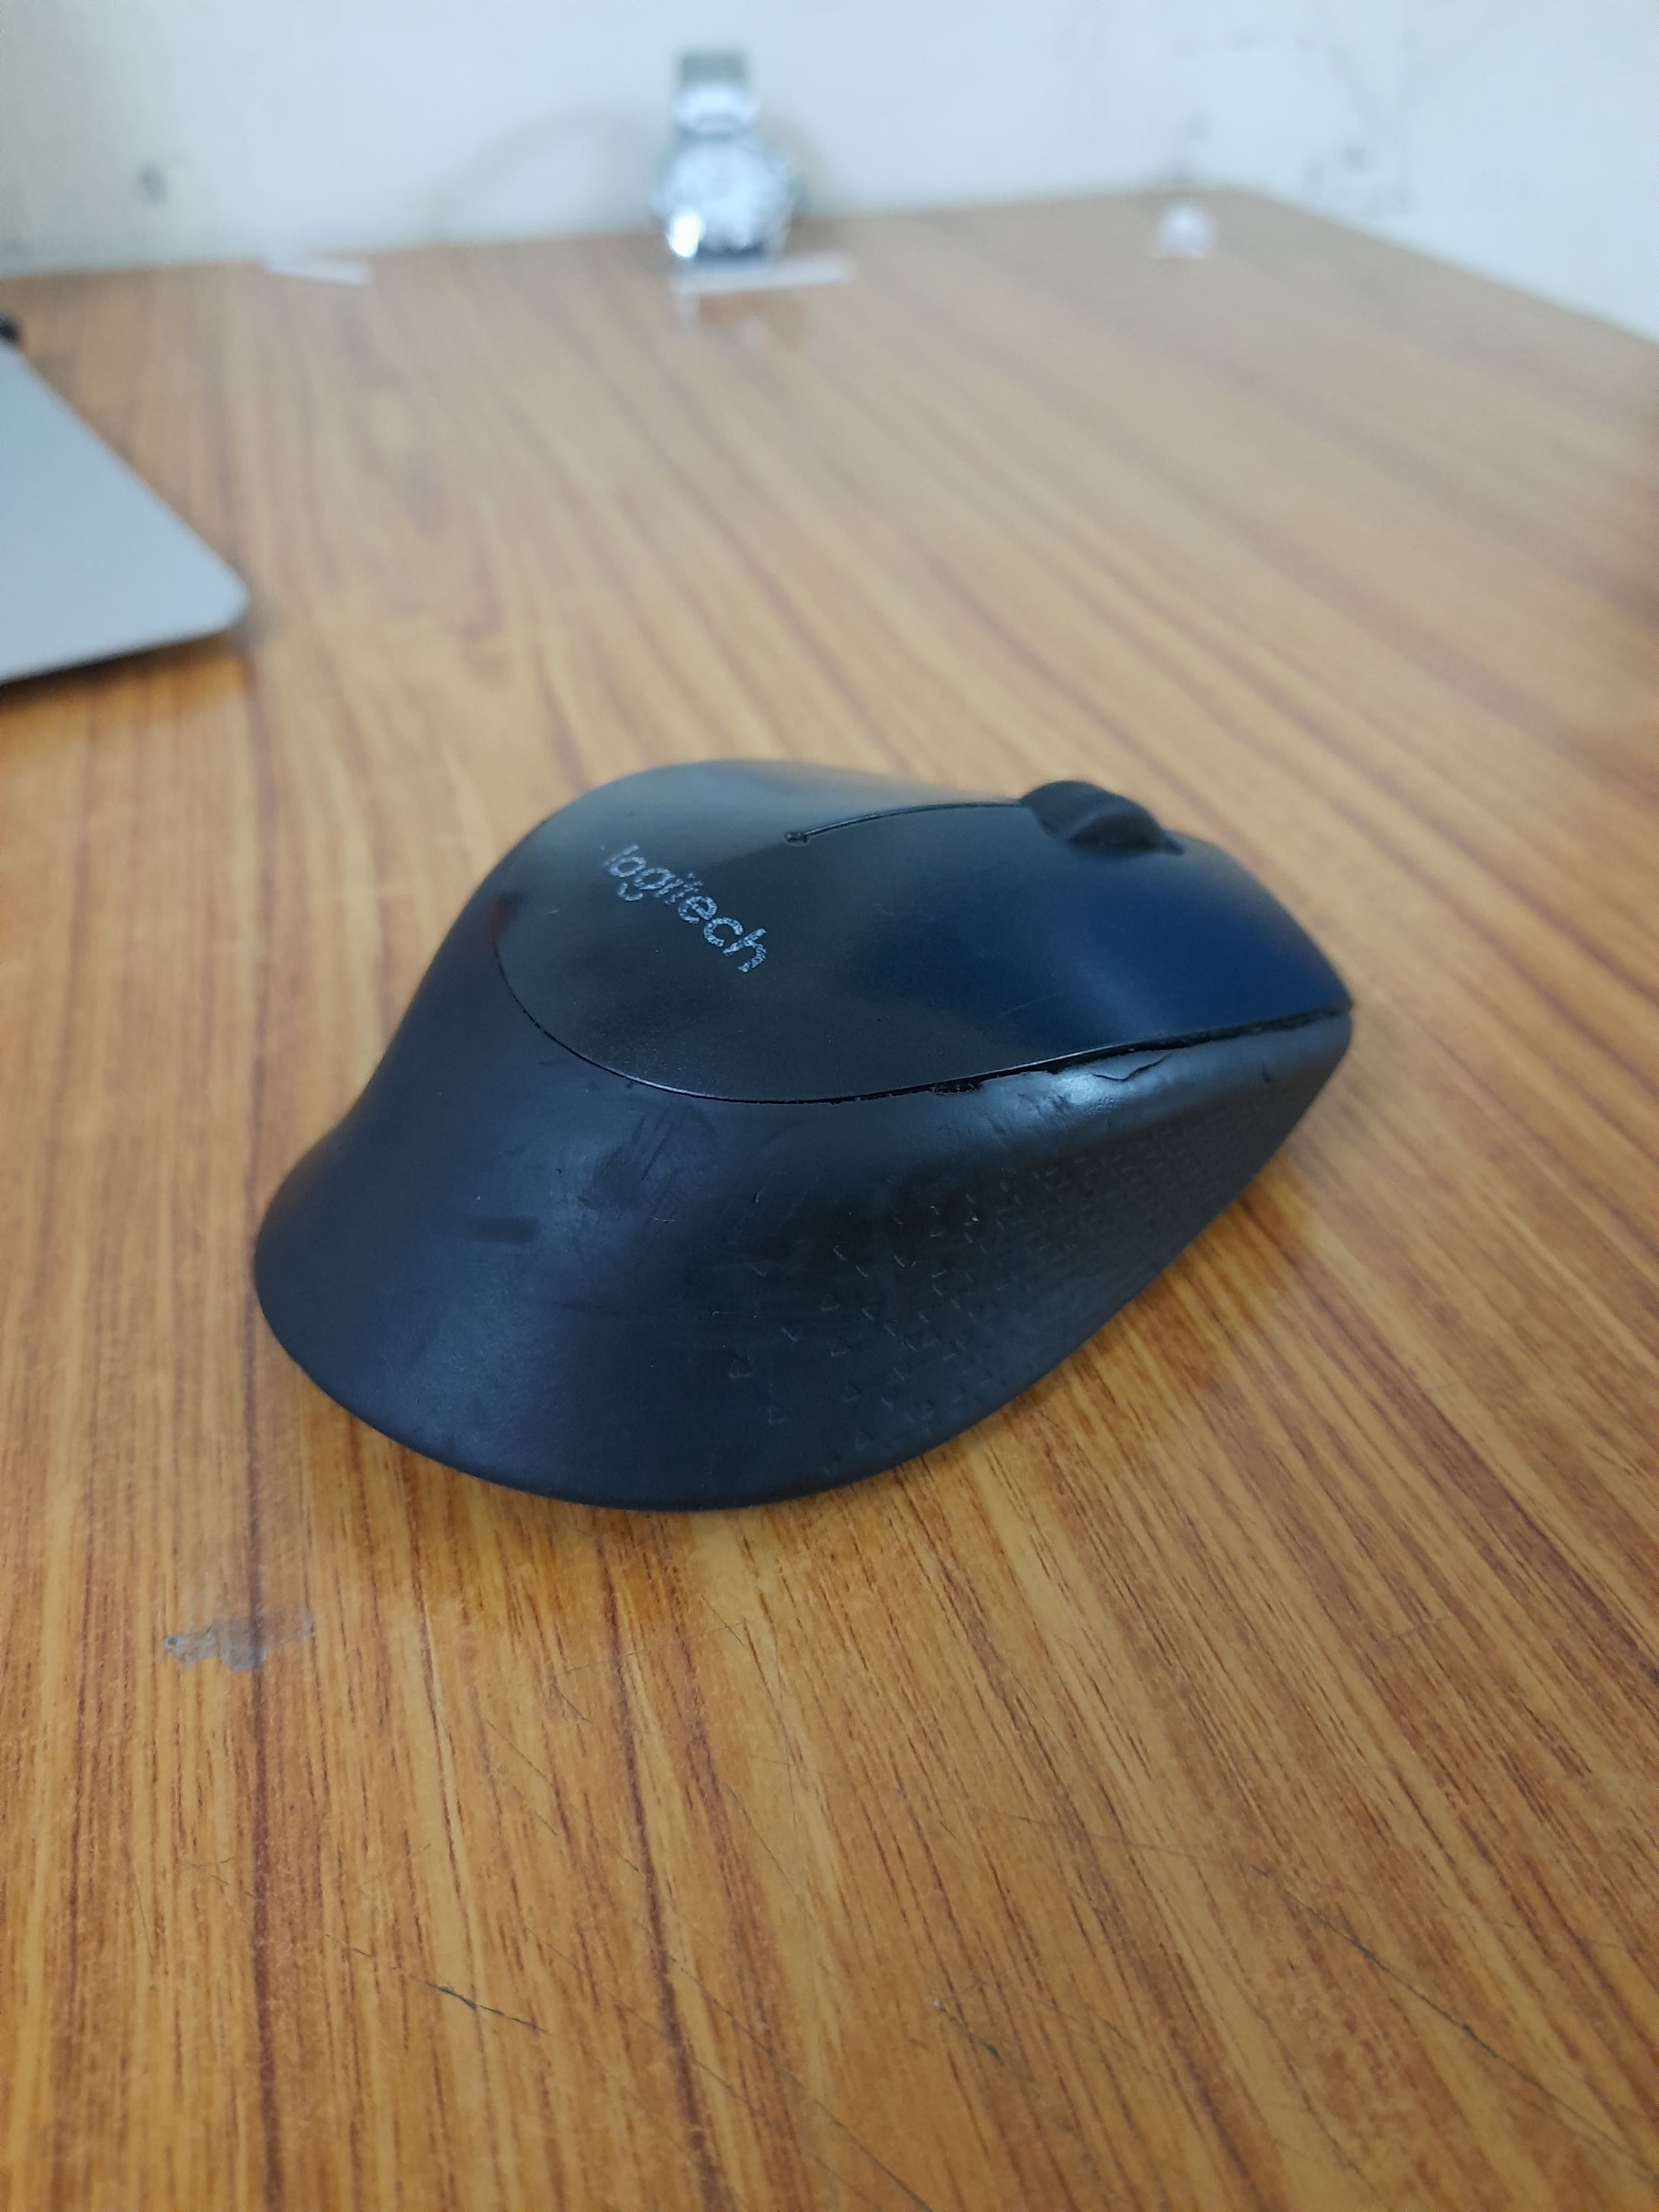Vikash's Mouse: (249, 749, 1364, 1512)
